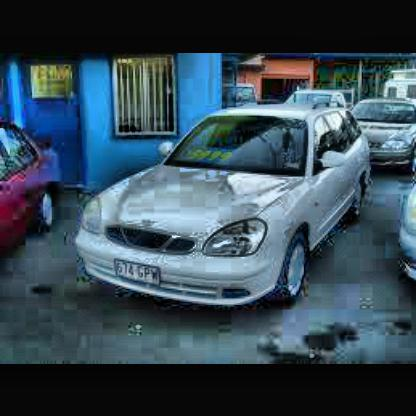Daewoo Nubira Wagon 2002: (73, 103, 373, 311)
